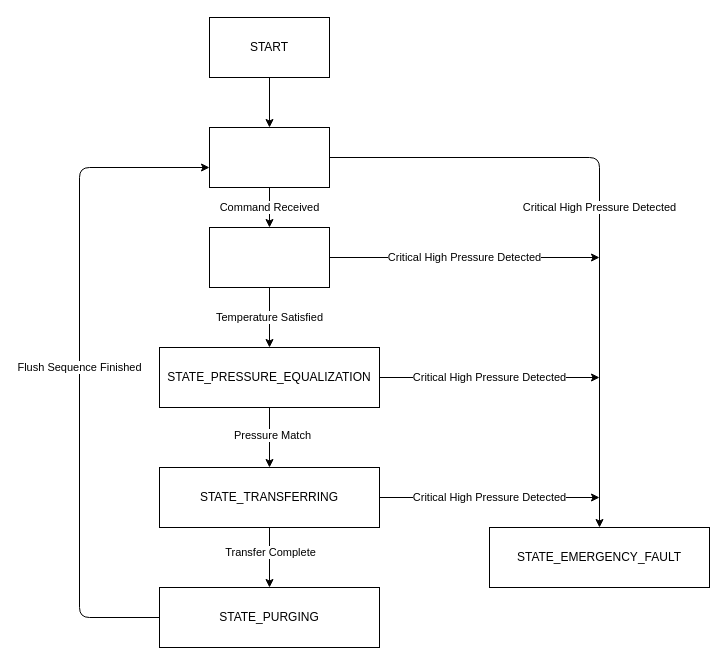
The diagram is 727 pixels wide and 665 high, and some of its shapes have lost their labels. The shapes that lost their labels are listed below. From the top down, each one's centre as x and y in pixels, then its label:
At (269,157): "STATE_IDLE".
At (269,257): "STATE_PRE_CHILL".
